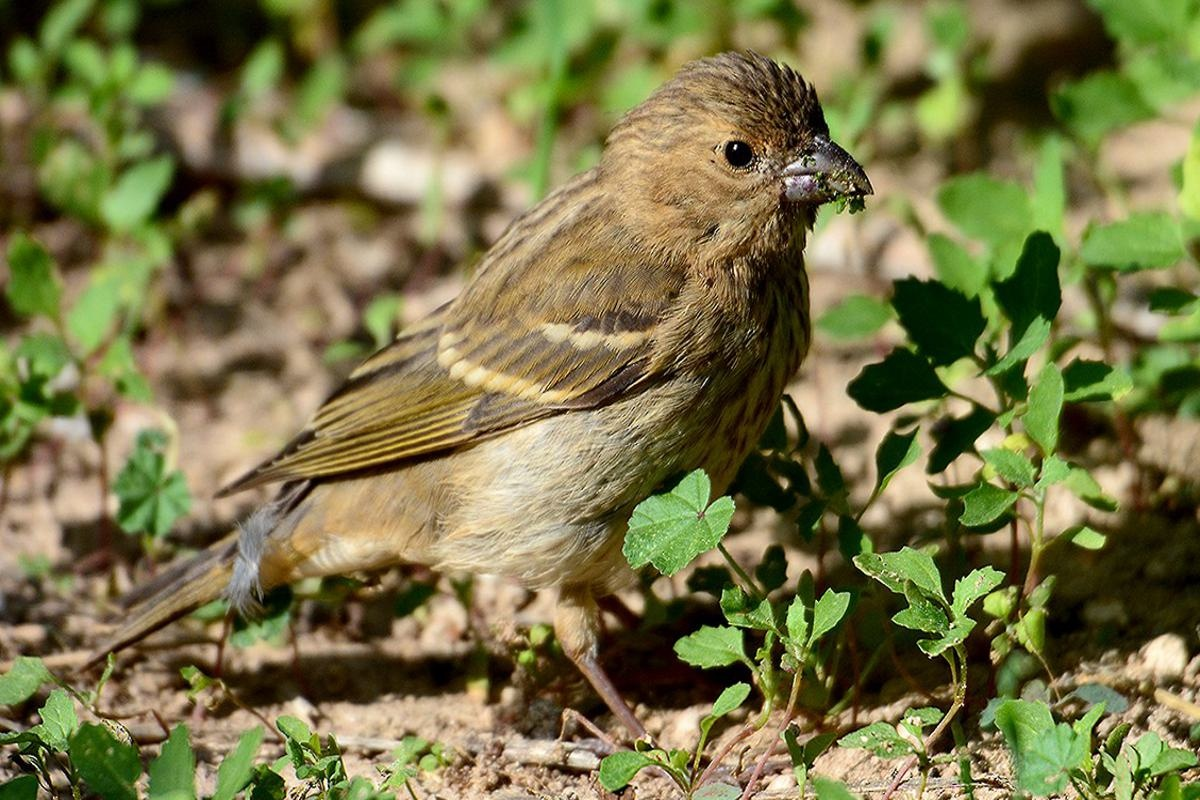rosefinch: (199, 48, 886, 681)
